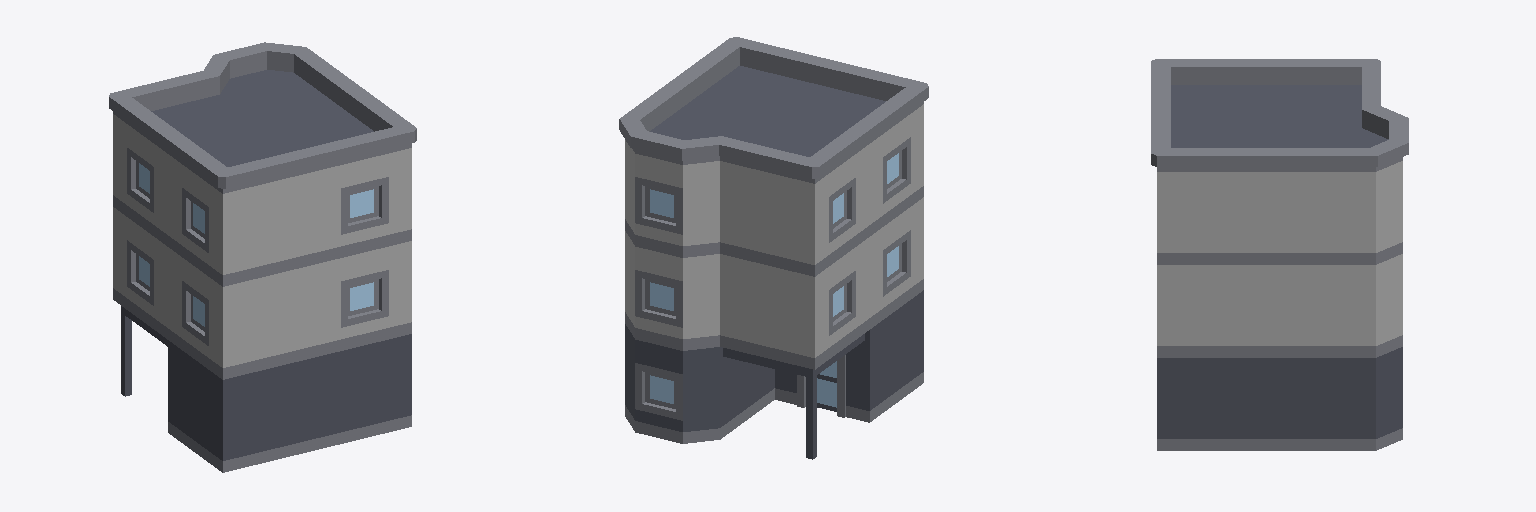
File: city_shop_c.obj
3 views of the same model, side by side, from view 1: azimuth 30°, elevation 25°; view 2: azimuth 150°, elevation 25°; view 3: azimuth 270°, elevation 25° (orthographic).
Visible parts, largest first — view 1: mergedBlocks; view 2: mergedBlocks; view 3: mergedBlocks.
Boxes of the visible parts, <box> form: mergedBlocks: <box>109,42,416,472</box>; mergedBlocks: <box>619,37,928,459</box>; mergedBlocks: <box>1151,59,1408,450</box>.
Bounding box in the file's own units: 0.5376 × 0.768 × 0.6016.